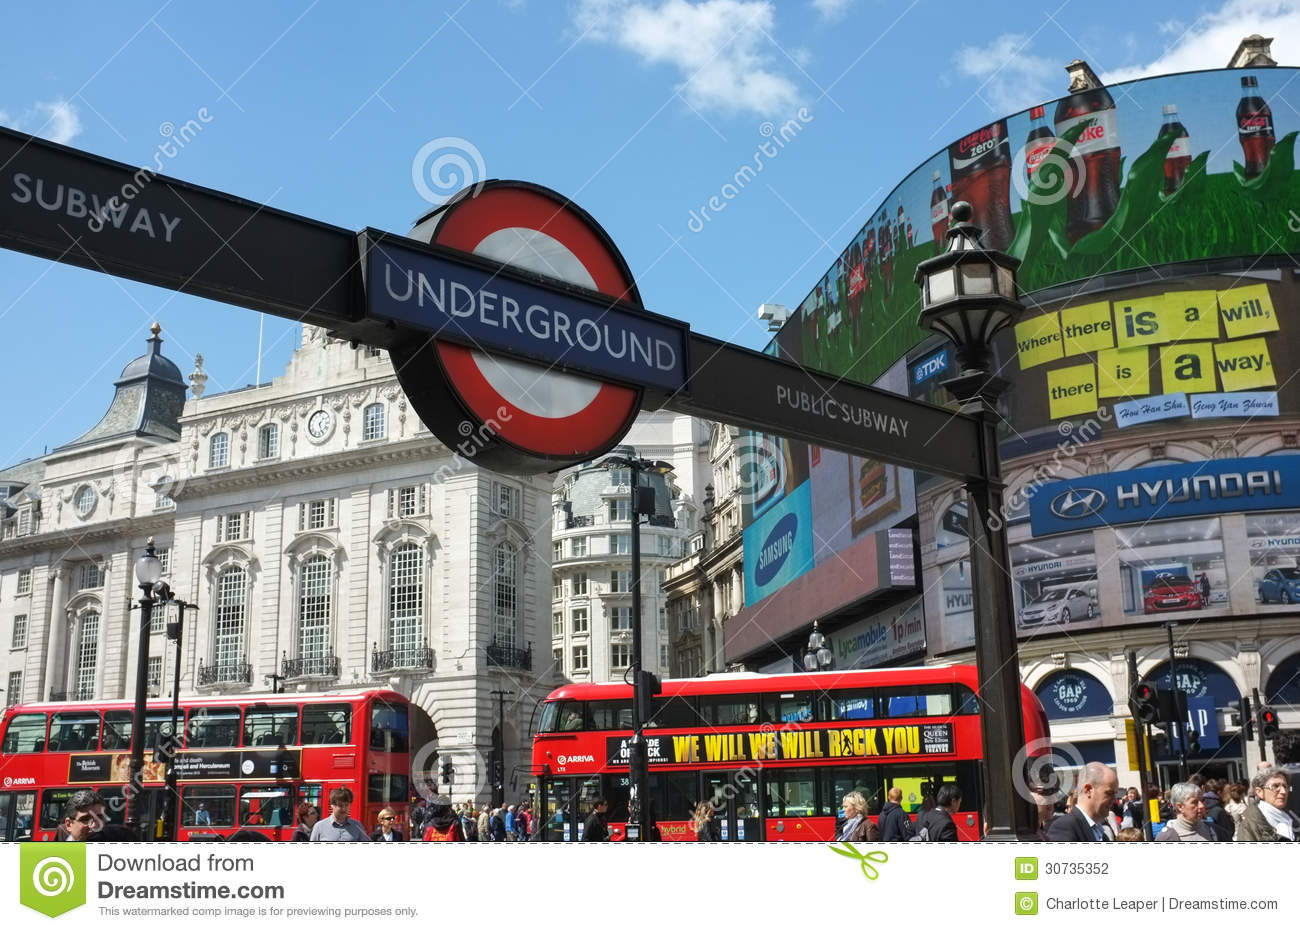London Underground: (367, 180, 690, 471)
